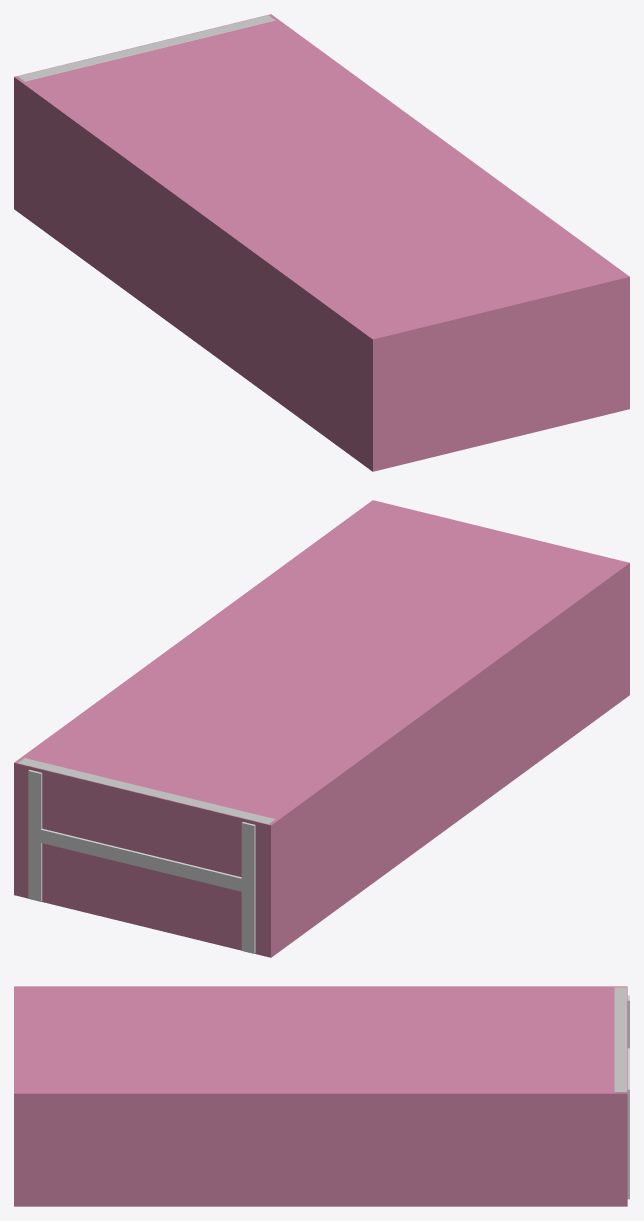
File: ind_ramp_01_1m.dae
3 renders of one model, top to bottom at view 1: azimuth 30°, elevation 25°; view 2: azimuth 150°, elevation 25°; view 3: azimuth 270°, elevation 25°, orthographic. The views are drawn at different scales.
Parts seen in each view (by area): view 1: Untitled, tree_oak_bush_a100; view 2: Untitled, tree_oak_bush_a100; view 3: Untitled, tree_oak_bush_a100.
Boxes of the visible parts, <box> form: Untitled: <box>14,14,629,471</box>; tree_oak_bush_a100: <box>18,15,275,81</box>; Untitled: <box>14,500,629,957</box>; tree_oak_bush_a100: <box>18,758,275,953</box>; Untitled: <box>14,986,627,1206</box>; tree_oak_bush_a100: <box>614,987,629,1199</box>.
Bounding box in the file's own units: 4.1 × 9.95 × 2.02.
